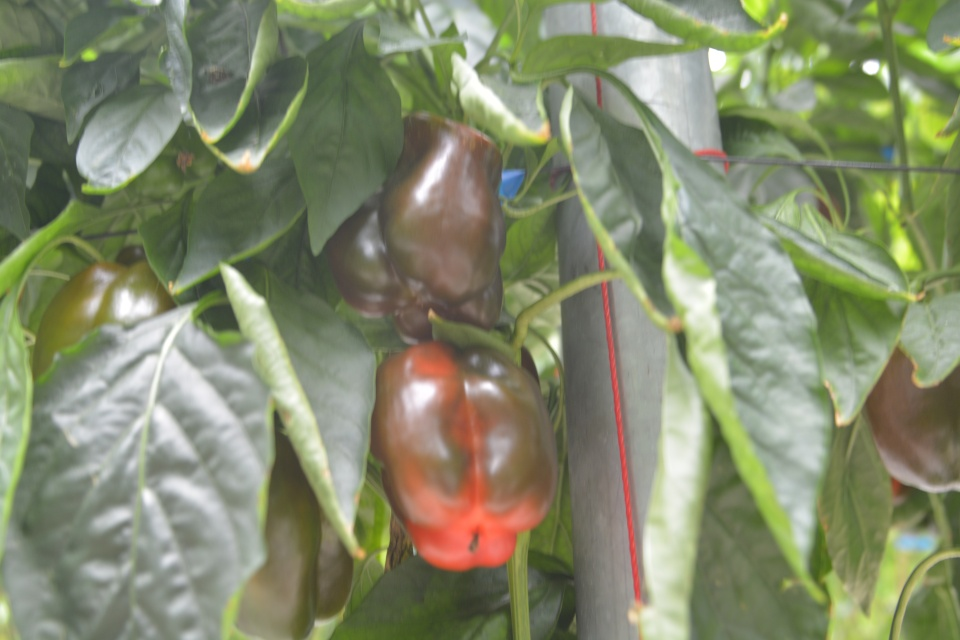fruit: (368, 322, 559, 574), (324, 106, 509, 346), (232, 407, 356, 640), (29, 256, 180, 389), (864, 344, 958, 496)
